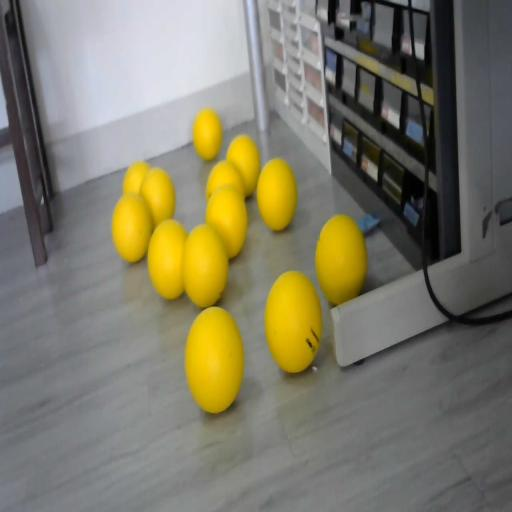FUEL: (184, 304, 244, 412), (263, 268, 323, 372), (314, 214, 367, 307), (147, 218, 188, 300), (204, 185, 248, 259), (256, 157, 298, 231), (111, 192, 153, 263), (226, 134, 262, 196), (192, 107, 222, 160), (122, 161, 152, 196)
